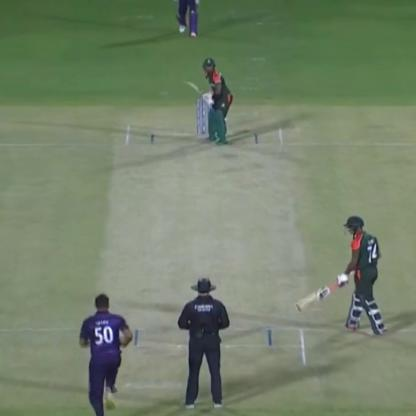bat: (296, 270, 344, 311), (179, 74, 212, 102)
pitch: (107, 119, 310, 380)
